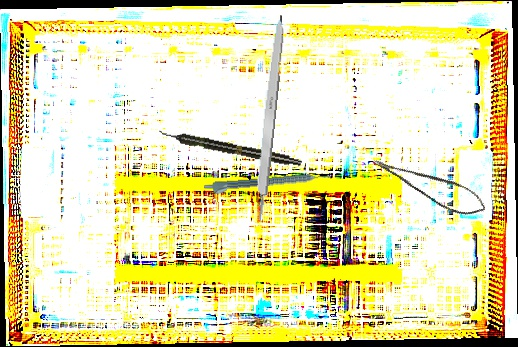Handpiece: (157, 126, 303, 170), (203, 171, 331, 197)
Micro Scissor: (371, 140, 491, 227)
Scalpel Handle: (250, 14, 287, 224)
